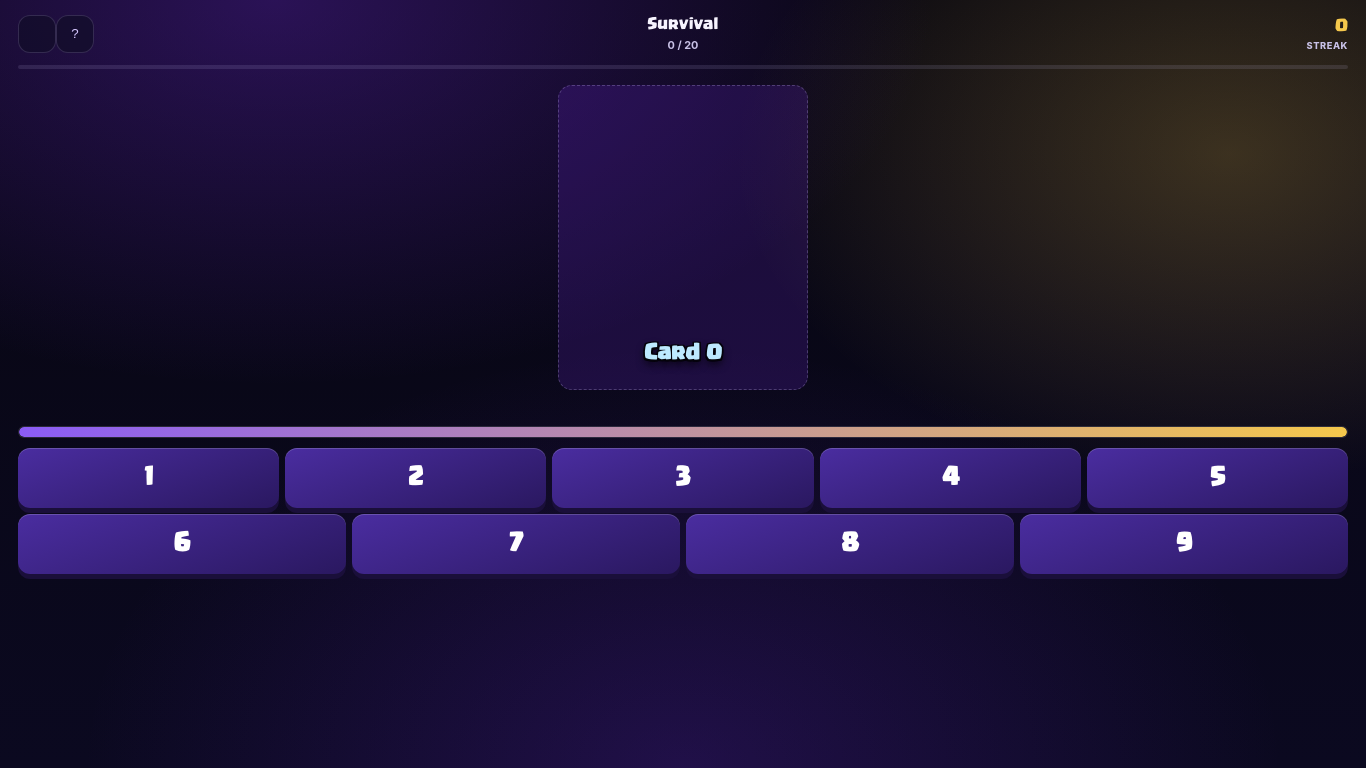
Scenario: Survival gameplay › builds a streak then dies on a wrong tap (new personal best)
expect the text with class "ed-game__mode" reads "Survival": met, box [647, 17, 719, 32]
Click the button "2" at (416, 478), box [285, 448, 546, 508]
Wait 230 ms
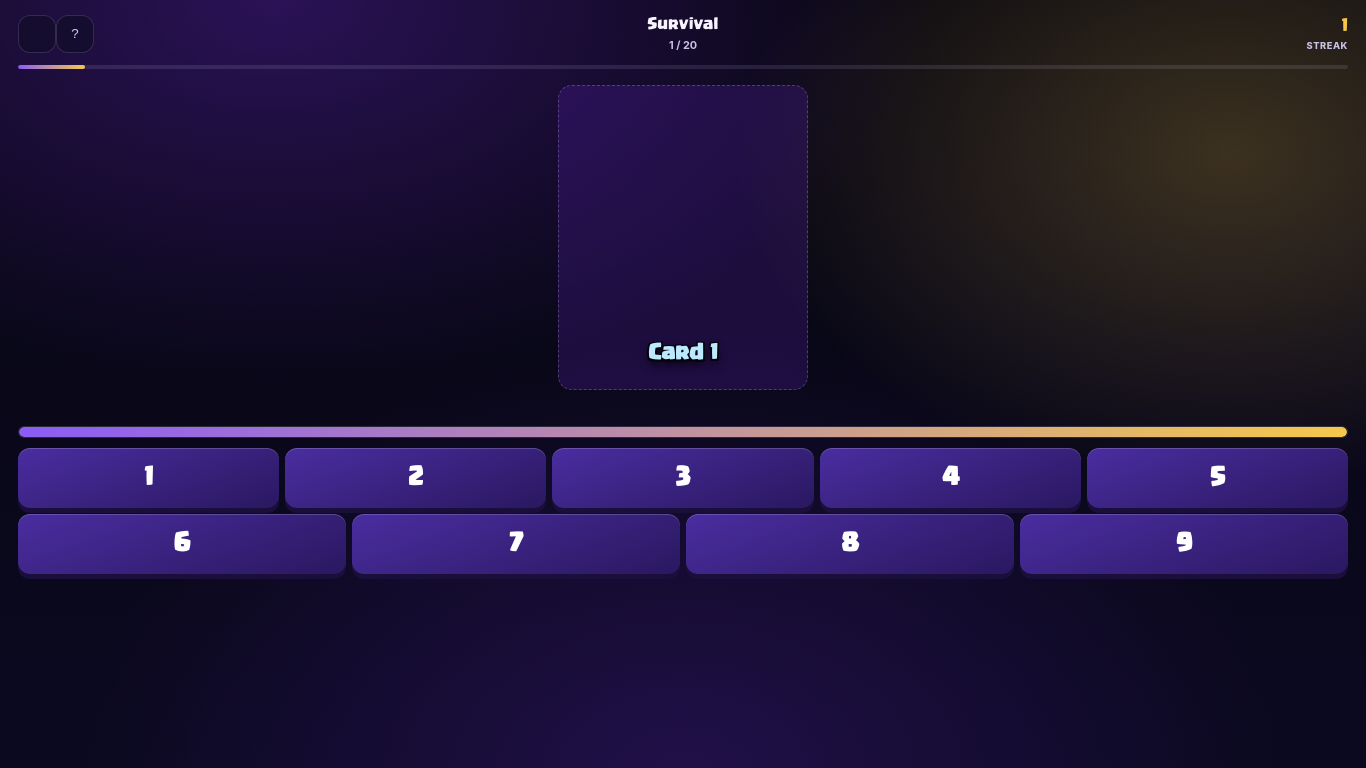
Click the button "3" at (683, 478), box [552, 448, 814, 508]
Wait 230 ms
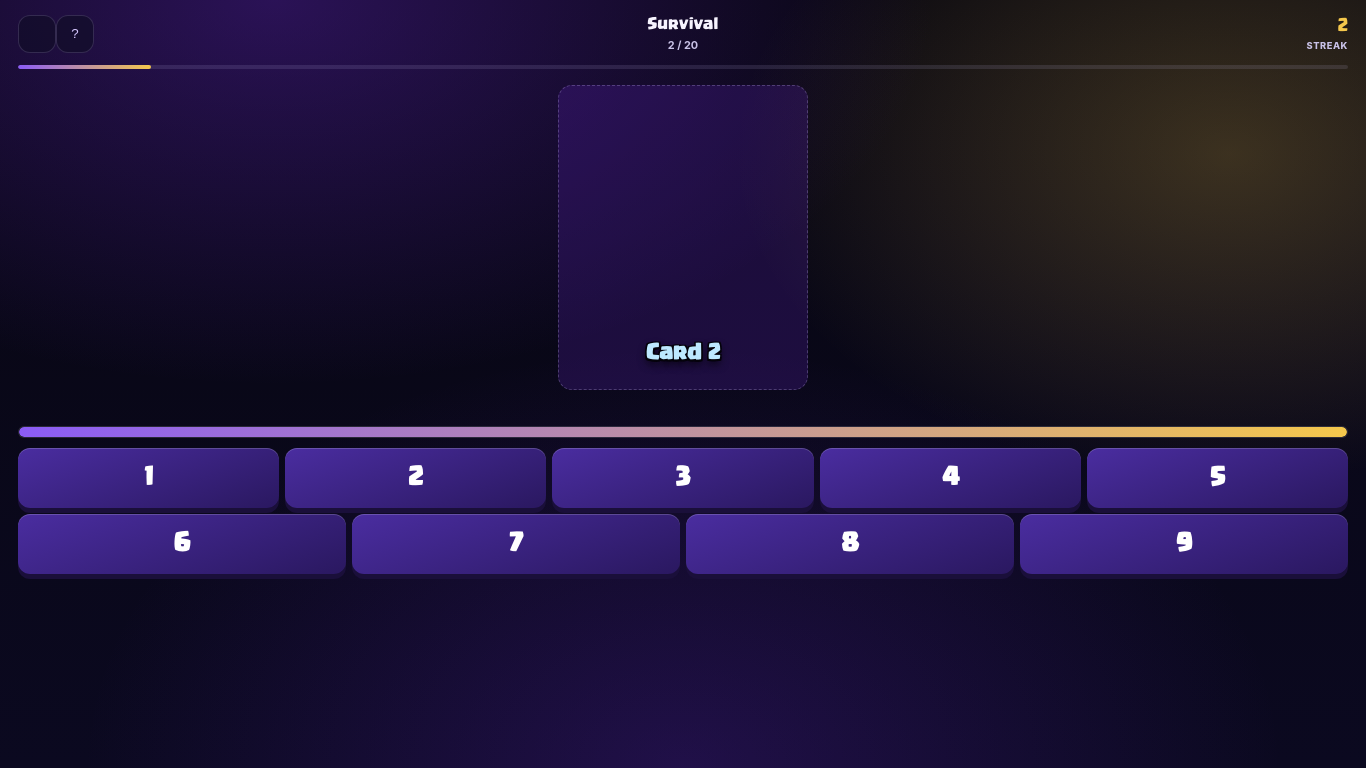
expect the text with class "ed-game__metric" reads "2": met, box [1338, 18, 1348, 34]
Click the button "3" at (683, 478), box [552, 448, 814, 508]
Wait 1100 ms
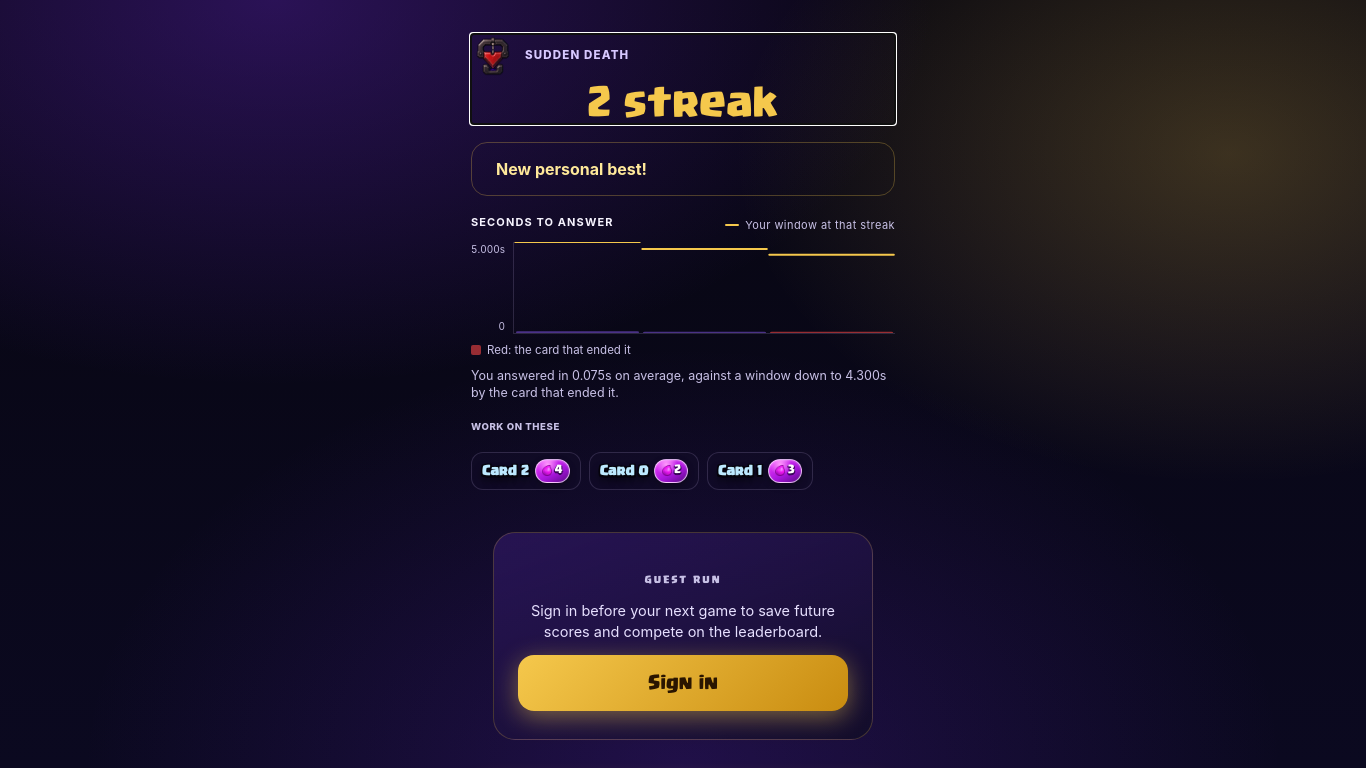
expect the text "2 streak" is shown: met, box [588, 86, 778, 124]
expect the text "Sudden death" is shown: met, box [471, 34, 629, 78]
expect the text "New personal best!" is shown: met, box [496, 159, 647, 179]
